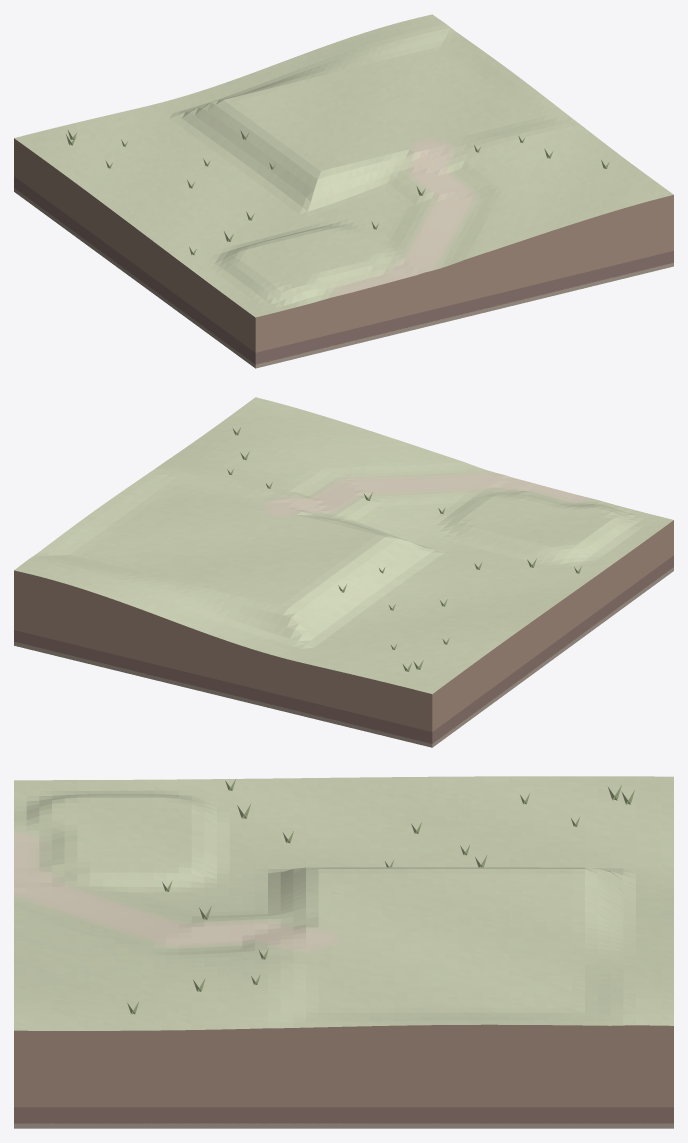
The picture shows the model from 3 angles, top to bottom: view 1: azimuth 30°, elevation 25°; view 2: azimuth 150°, elevation 25°; view 3: azimuth 270°, elevation 25°; orthographic projection. The views are drawn at different scales.
Visible parts, largest first — view 1: proc_ground, proc_skirt, proc_grass; view 2: proc_ground, proc_skirt; view 3: proc_ground, proc_skirt, proc_grass.
Part boxes in pixels (x1,y1,x2,y2): proc_ground: (14, 14, 673, 317); proc_skirt: (14, 138, 673, 368); proc_grass: (66, 130, 609, 255); proc_ground: (14, 397, 673, 694); proc_skirt: (14, 520, 673, 747); proc_ground: (14, 776, 673, 1030); proc_skirt: (14, 1024, 673, 1128); proc_grass: (127, 779, 634, 1014).
Size of the model in its own units: 8 by 1.49 by 8.
